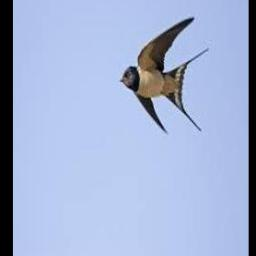Swallow: (120, 16, 210, 133)
